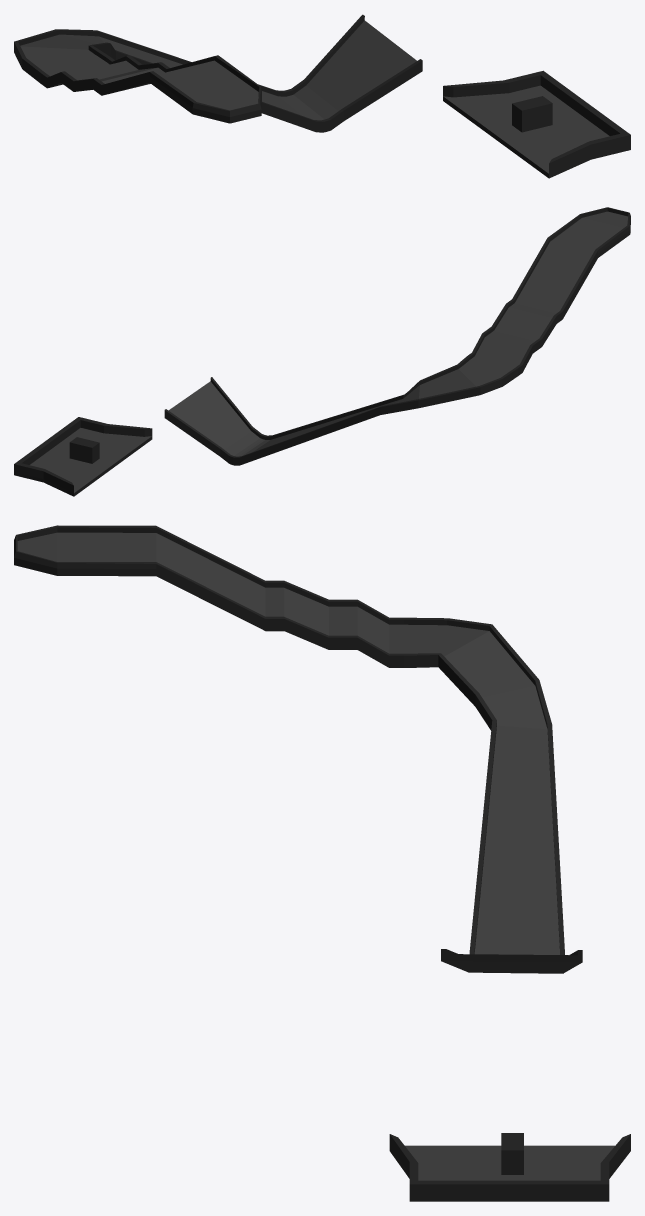
File: nazilevel.FBX
3 views of the same model, one above another, from view 1: azimuth 30°, elevation 25°; view 2: azimuth 150°, elevation 25°; view 3: azimuth 270°, elevation 25° (orthographic). The views are drawn at different scales.
Parts seen in each view (by area): view 1: road, landing; view 2: road, landing; view 3: road, landing.
Part boxes in pixels (x1,y1,x2,y2): road: [14, 14, 422, 132]; landing: [443, 70, 630, 178]; road: [164, 207, 630, 465]; landing: [14, 417, 152, 496]; road: [14, 525, 582, 973]; landing: [389, 1133, 630, 1201].
Bounding box in the file's own units: 2422 × 1192 × 1916.
